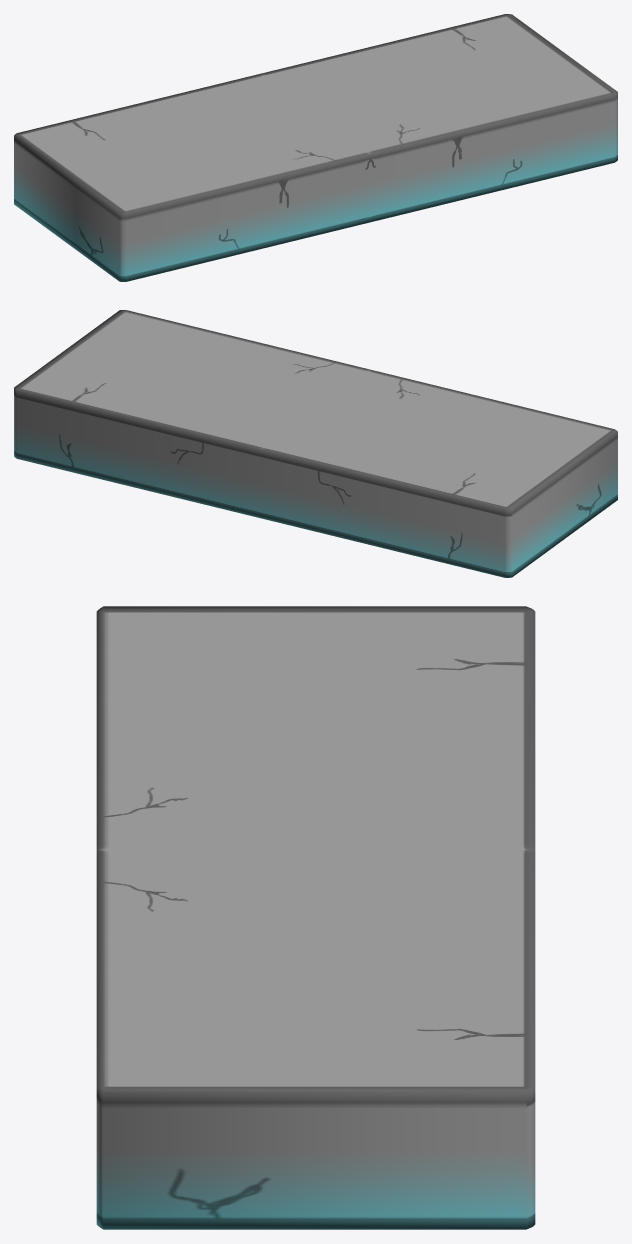
The model's file is concreto.fbx.
3 views of the same model, one above another, from view 1: azimuth 30°, elevation 25°; view 2: azimuth 150°, elevation 25°; view 3: azimuth 270°, elevation 25° (orthographic). The views are drawn at different scales.
Parts seen in each view (by area): view 1: Cube; view 2: Cube; view 3: Cube.
Boxes of the visible parts, left/top/right/bottom form: Cube: left=14, top=14, right=617, bottom=281; Cube: left=14, top=310, right=617, bottom=577; Cube: left=96, top=606, right=535, bottom=1229.
Size of the model in its own units: 524 by 68.8 by 200.
Materials: 1 (1 with a texture image).
